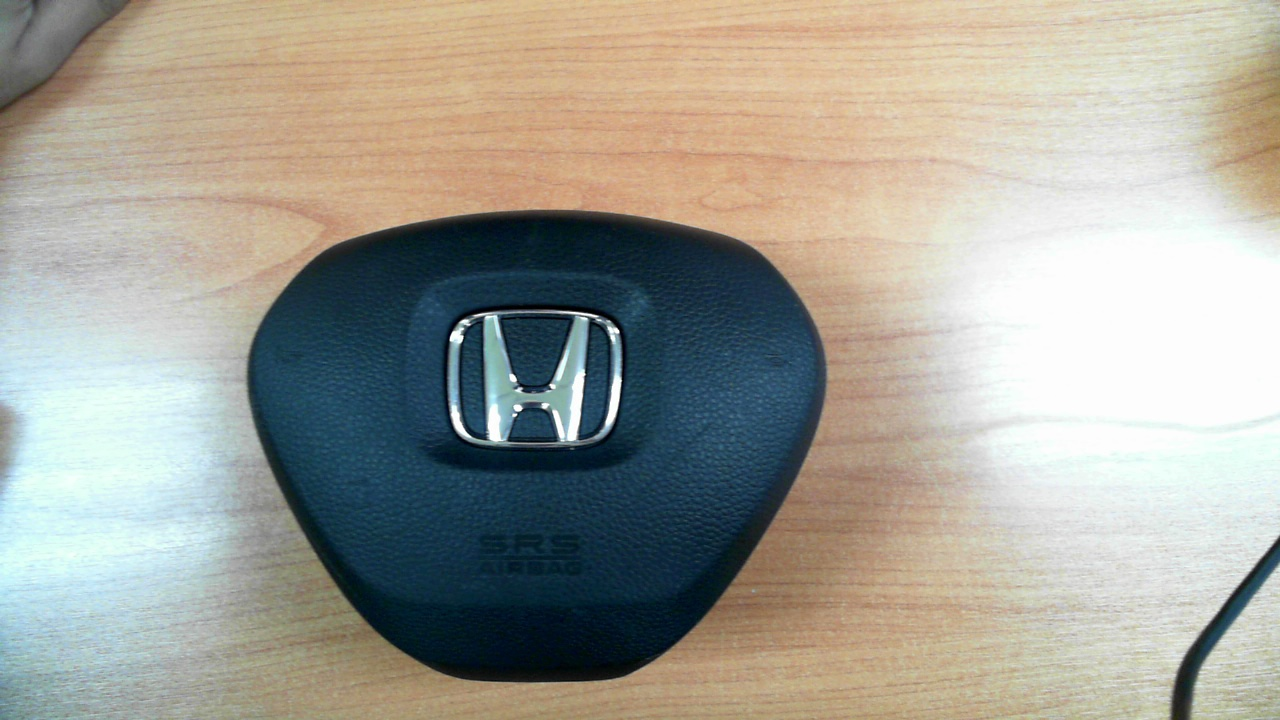Airbag: (246, 210, 829, 683)
Honda: (447, 307, 625, 451)
